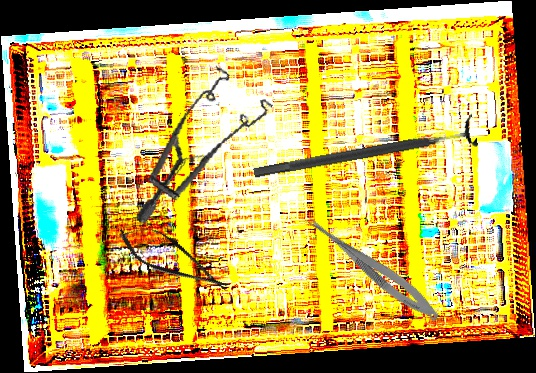Fixation Ring: (250, 111, 479, 191)
Micro Scissor: (296, 209, 445, 326), (111, 213, 236, 305)
Speculum: (134, 55, 279, 244)
